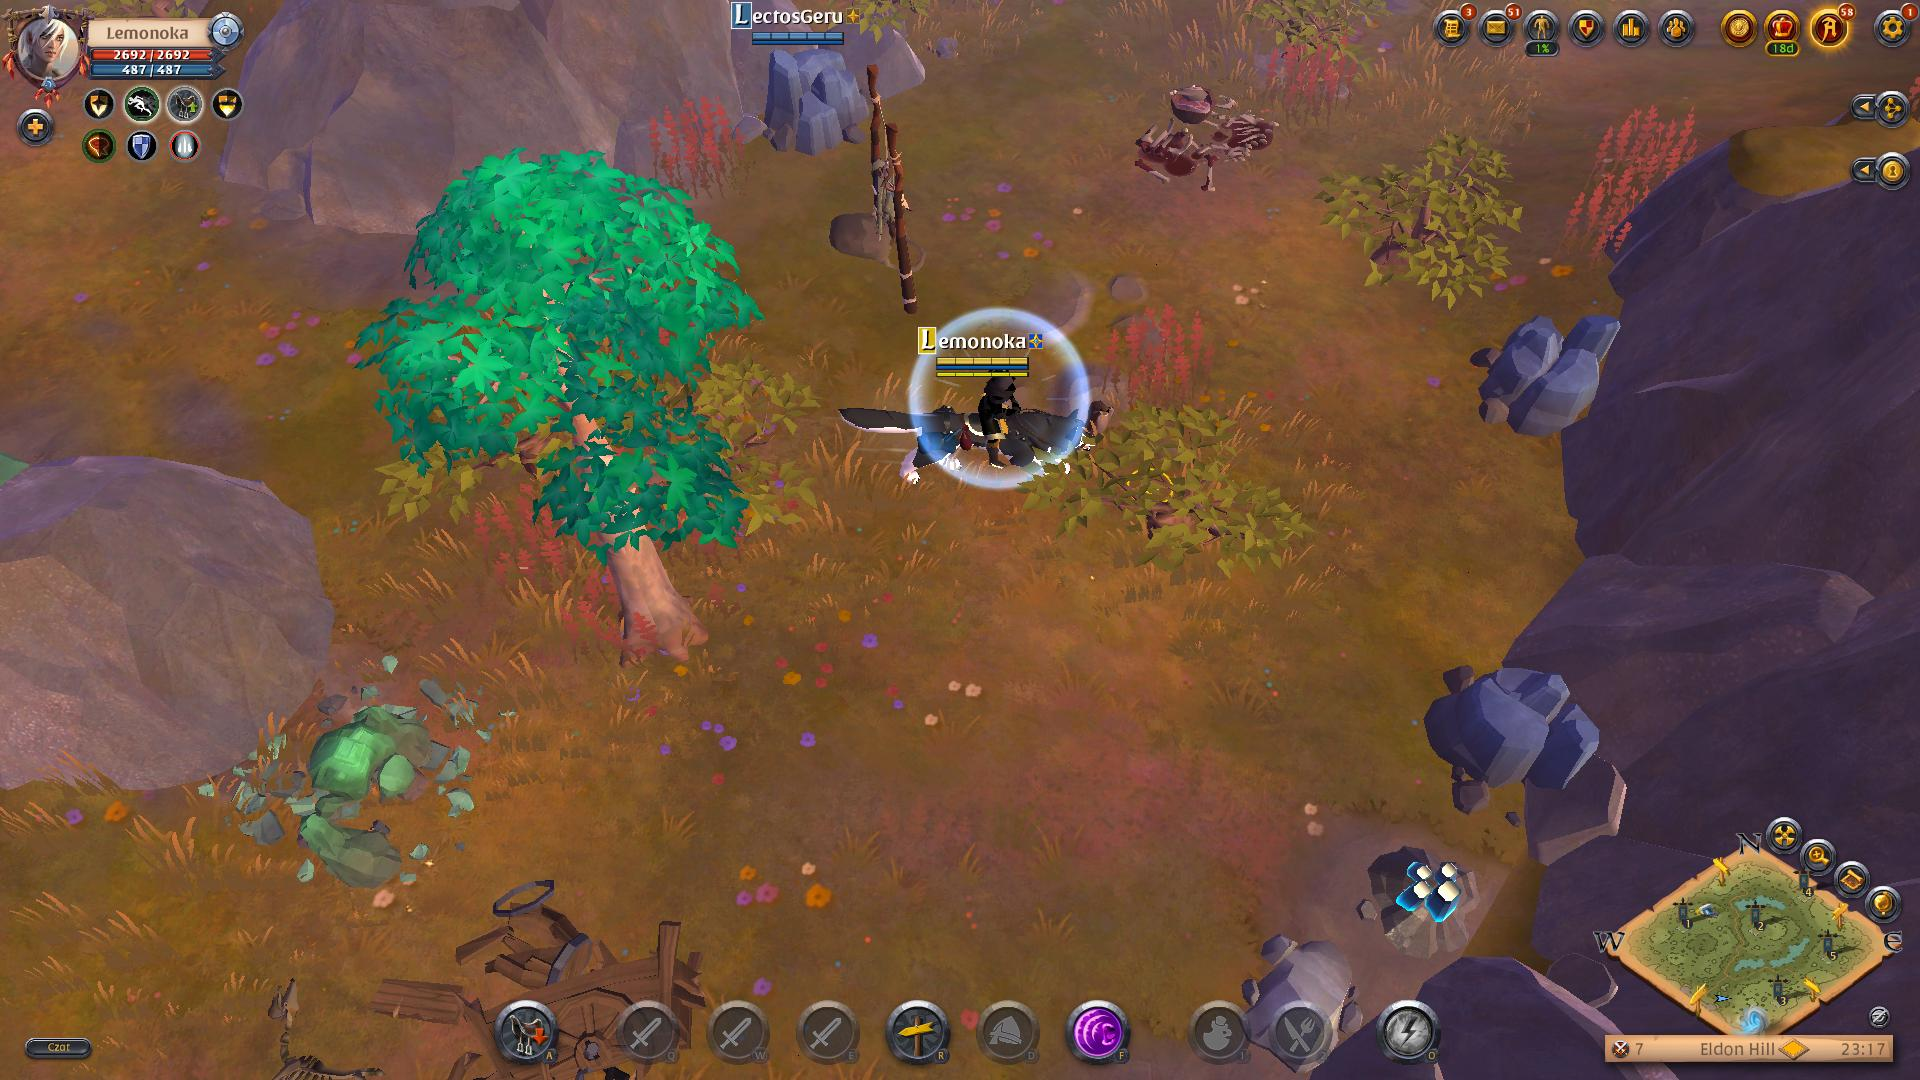ore tier 4: (1360, 841, 1484, 968)
rock tier 4: (1420, 661, 1609, 808), (1466, 314, 1635, 435), (764, 44, 872, 152)
wood tier 3: (352, 146, 765, 562)
